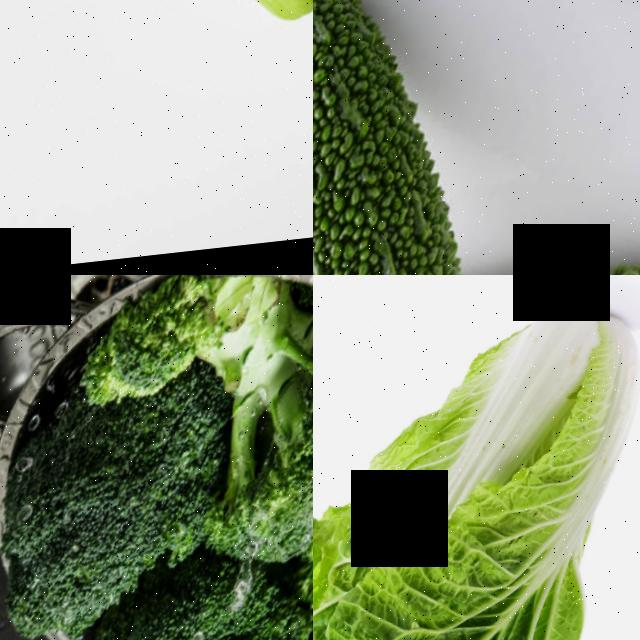bitter gourd: (313, 0, 581, 275), (0, 0, 313, 102)
broccoli: (0, 379, 225, 640), (67, 275, 264, 456), (199, 296, 313, 593), (63, 544, 313, 640)
cabbage: (313, 275, 640, 640)
